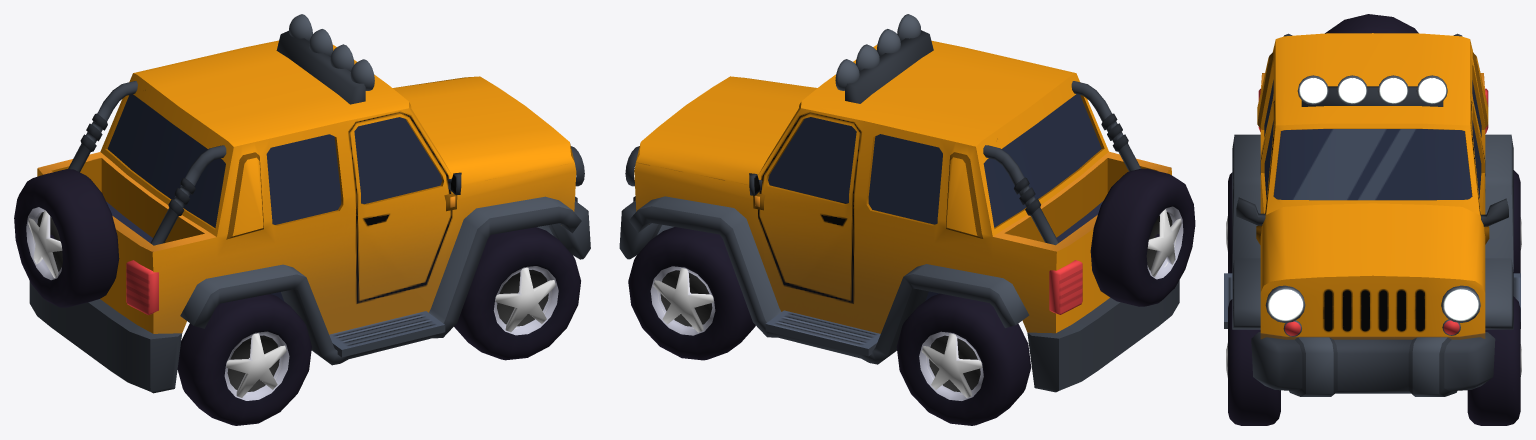
Rendered from stylized_jeep.glb.
3 renders of one model, left to right at view 1: azimuth 30°, elevation 25°; view 2: azimuth 150°, elevation 25°; view 3: azimuth 270°, elevation 25°, orthographic. The views are drawn at different scales.
Visible parts, largest first — view 1: Base_4, Wheel.004_33, Fender.001_19, Wheel.003_31, Wheel.005_35, Step.001_24, Roof lamp support_9, Tube.001_23, Wheel disk.002_32, Wheel disk.003_34, Tube_11, Rear Light.001_18 (+3 smaller); view 2: Base_4, Wheel.002_29, Fender_6, Wheel.001_27, Wheel.005_35, Step_14, Roof lamp support_9, Tube_11, Wheel disk.001_30, Wheel disk_28, Rear Light_12, Tube.001_23 (+3 smaller); view 3: Base_4, Bumper Front_5, Fender_6, Fender.001_19, Wheel.001_27, Wheel.003_31, Wheel.005_35, Front Light Big R_15, Front Light Big L_7, Roof lamp support_9, Wheel.002_29, Roof Lamp.003_22 (+7 smaller).
Part boxes in pixels (x1,y1,x2,y2): Base_4: (29,40,576,393); Wheel.004_33: (177,294,311,425); Fender.001_19: (180,196,581,365); Wheel.003_31: (454,227,580,360); Wheel.005_35: (14,169,119,307); Step.001_24: (329,311,445,357); Roof lamp support_9: (276,30,365,104); Tube.001_23: (150,145,226,245); Wheel disk.002_32: (495,267,555,332); Wheel disk.003_34: (226,333,286,397); Tube_11: (68,81,137,172); Rear Light.001_18: (126,260,158,315); Base_4: (634,40,1179,392); Wheel.002_29: (896,293,1031,425); Fender_6: (629,196,1029,364); Wheel.001_27: (628,227,755,360); Wheel.005_35: (1090,168,1195,306); Step_14: (765,310,880,356); Roof lamp support_9: (845,30,933,103); Tube_11: (983,145,1058,245); Wheel disk.001_30: (921,333,982,397); Wheel disk_28: (653,268,713,332); Rear Light_12: (1049,260,1082,314); Tube.001_23: (1071,81,1141,171); Base_4: (1257,33,1488,339); Bumper Front_5: (1251,332,1495,396); Fender_6: (1485,134,1513,329); Fender.001_19: (1232,134,1260,329); Wheel.001_27: (1467,296,1520,425); Wheel.003_31: (1228,299,1280,425); Wheel.005_35: (1325,14,1418,33); Front Light Big R_15: (1265,285,1305,322); Front Light Big L_7: (1441,285,1480,322); Roof lamp support_9: (1301,86,1443,106); Wheel.002_29: (1513,170,1520,273); Roof Lamp.003_22: (1297,75,1328,104).
Bounding box in the file's own units: 4.93 × 2.81 × 2.63.
Materials: 1 (1 with a texture image).
